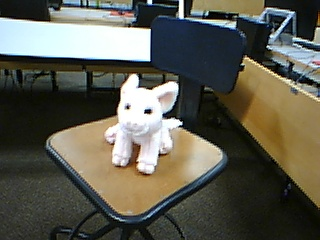piggy: (103, 73, 180, 177)
